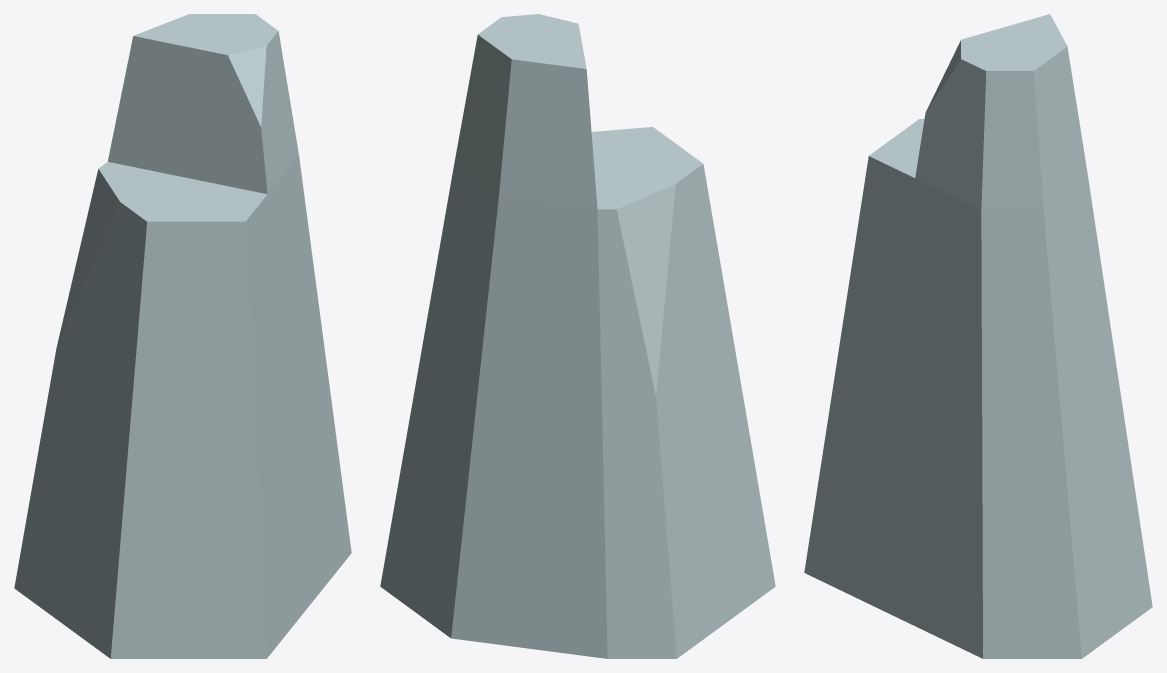
Rendered from stone_tallI.gltf.
3 views of the same model, side by side, from view 1: azimuth 30°, elevation 25°; view 2: azimuth 150°, elevation 25°; view 3: azimuth 270°, elevation 25° (orthographic). The views are drawn at different scales.
Visible parts, largest first — view 1: stone_tallI; view 2: stone_tallI; view 3: stone_tallI.
Boxes of the visible parts, left/top/right/bottom form: stone_tallI: left=14, top=14, right=351, bottom=658; stone_tallI: left=380, top=14, right=775, bottom=658; stone_tallI: left=804, top=14, right=1152, bottom=658.
Bounding box in the file's own units: 0.4562 × 0.8118 × 0.4644.
